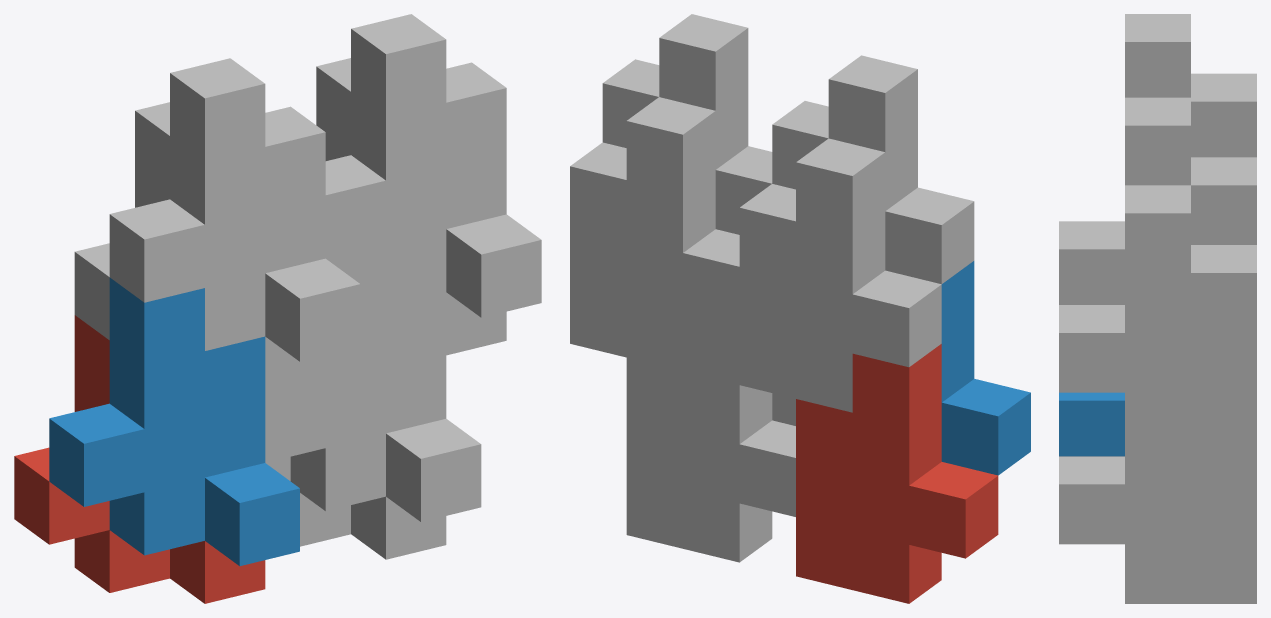
The model's file is tiling.obj.
3 views of the same model, side by side, from view 1: azimuth 30°, elevation 25°; view 2: azimuth 150°, elevation 25°; view 3: azimuth 270°, elevation 25° (orthographic). The views are drawn at different scales.
Visible parts, largest first — view 1: copy_1_domain_4, copy_1_domain_2, copy_1_domain_8, copy_1_domain_6, copy_1_domain_1, copy_1_domain_3, copy_1_domain_5, copy_1_domain_7; view 2: copy_1_domain_3, copy_1_domain_1, copy_1_domain_7, copy_1_domain_5, copy_1_domain_4, copy_1_domain_8, copy_1_domain_2, copy_1_domain_6; view 3: copy_1_domain_8, copy_1_domain_7, copy_1_domain_5, copy_1_domain_6, copy_1_domain_4, copy_1_domain_3, copy_1_domain_2.
Boxes of the visible parts, x1=… form: copy_1_domain_4: x1=109, y1=58, x2=360, y2=361; copy_1_domain_2: x1=49, y1=277, x2=299, y2=566; copy_1_domain_8: x1=325, y1=14, x2=541, y2=317; copy_1_domain_6: x1=265, y1=244, x2=481, y2=521; copy_1_domain_1: x1=14, y1=315, x2=265, y2=603; copy_1_domain_3: x1=74, y1=102, x2=325, y2=399; copy_1_domain_5: x1=265, y1=456, x2=446, y2=559; copy_1_domain_7: x1=316, y1=58, x2=506, y2=355; copy_1_domain_3: x1=739, y1=138, x2=941, y2=412; copy_1_domain_1: x1=796, y1=344, x2=998, y2=603; copy_1_domain_7: x1=570, y1=97, x2=739, y2=371; copy_1_domain_5: x1=626, y1=312, x2=795, y2=562; copy_1_domain_4: x1=772, y1=55, x2=974, y2=284; copy_1_domain_8: x1=602, y1=14, x2=772, y2=234; copy_1_domain_2: x1=941, y1=261, x2=1030, y2=475; copy_1_domain_6: x1=772, y1=393, x2=795, y2=425; copy_1_domain_8: x1=1059, y1=97, x2=1190, y2=392; copy_1_domain_7: x1=1125, y1=157, x2=1256, y2=452; copy_1_domain_5: x1=1125, y1=452, x2=1256, y2=603; copy_1_domain_6: x1=1059, y1=452, x2=1190, y2=544; copy_1_domain_4: x1=1059, y1=14, x2=1190, y2=304; copy_1_domain_3: x1=1191, y1=73, x2=1256, y2=157; copy_1_domain_2: x1=1059, y1=392, x2=1124, y2=456.
Size of the model in its own units: 7 by 8 by 3.
